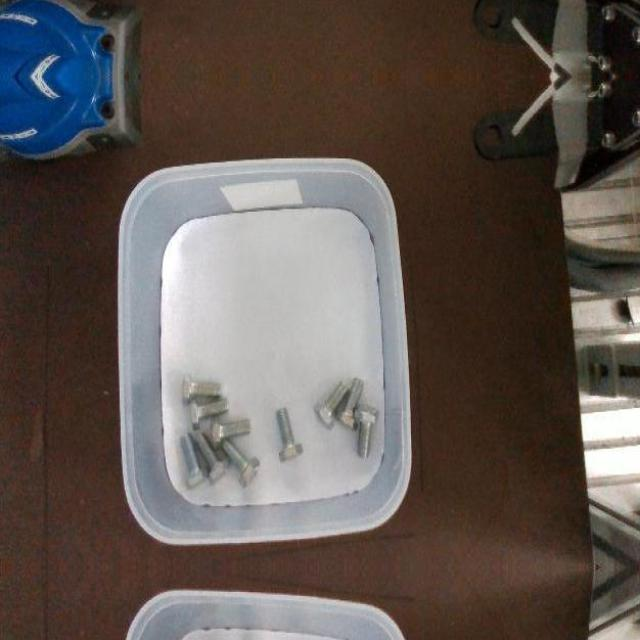screw: (222, 438, 261, 488), (195, 432, 230, 483), (314, 381, 348, 429), (179, 432, 208, 487), (276, 408, 304, 463), (334, 376, 363, 429), (212, 412, 250, 449), (354, 403, 379, 458), (183, 371, 222, 404), (189, 398, 229, 429)
